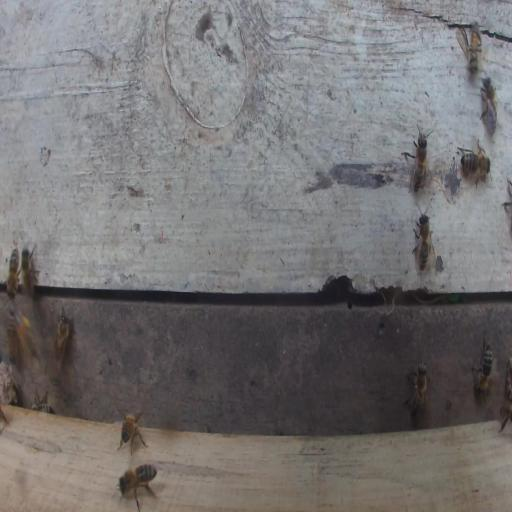bee: (402, 123, 433, 195), (115, 463, 158, 508), (457, 138, 491, 189), (115, 406, 149, 456), (8, 307, 38, 356), (411, 211, 434, 274), (471, 335, 493, 400), (404, 361, 428, 419), (457, 23, 483, 74), (479, 74, 499, 136), (21, 244, 39, 297), (55, 306, 71, 363), (28, 388, 56, 415), (6, 247, 20, 298), (8, 323, 20, 360), (498, 405, 512, 434), (13, 358, 14, 359)
